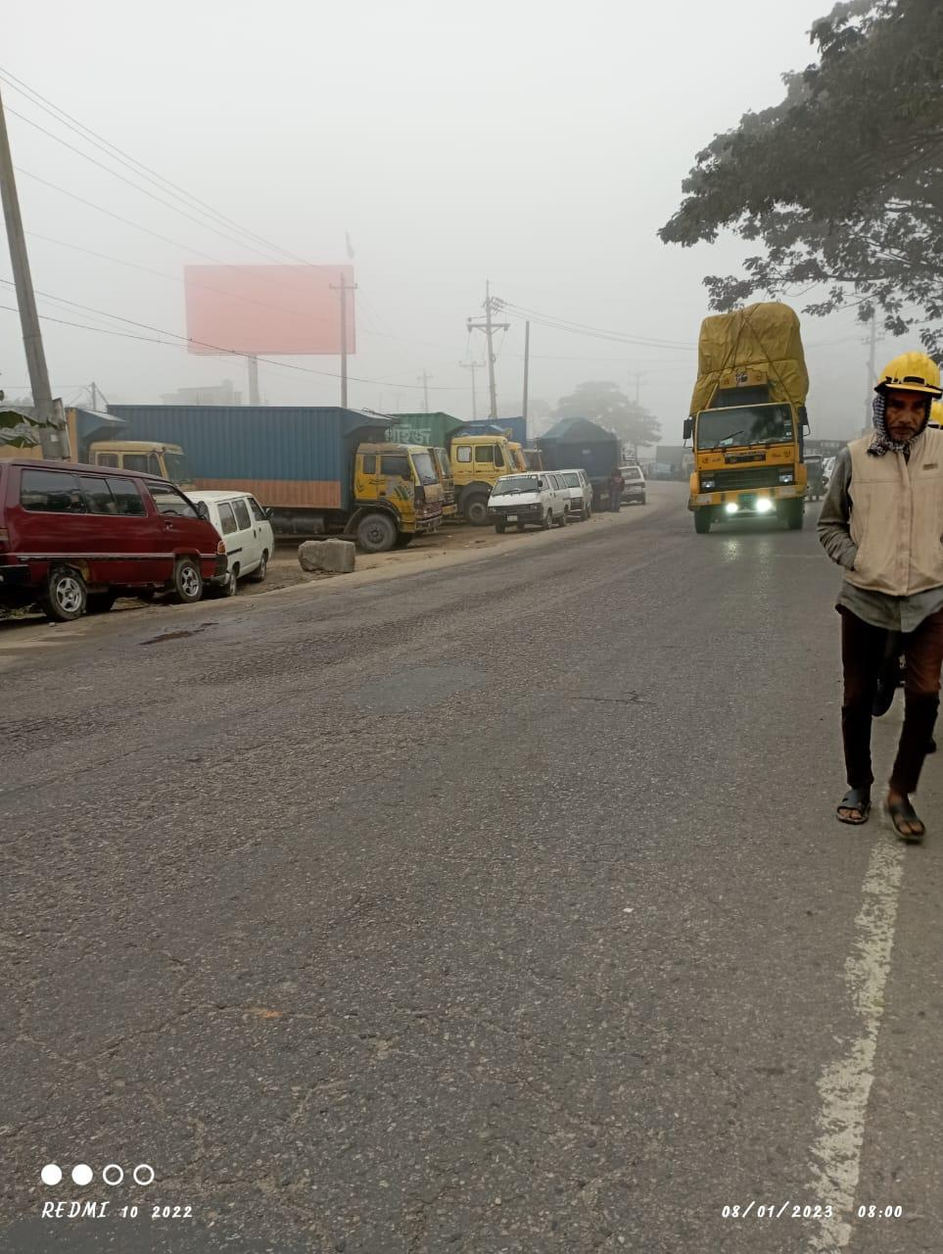Car: (8, 454, 221, 607), (192, 483, 284, 591), (486, 467, 569, 533)
Truck: (118, 392, 441, 556), (686, 297, 815, 534)
